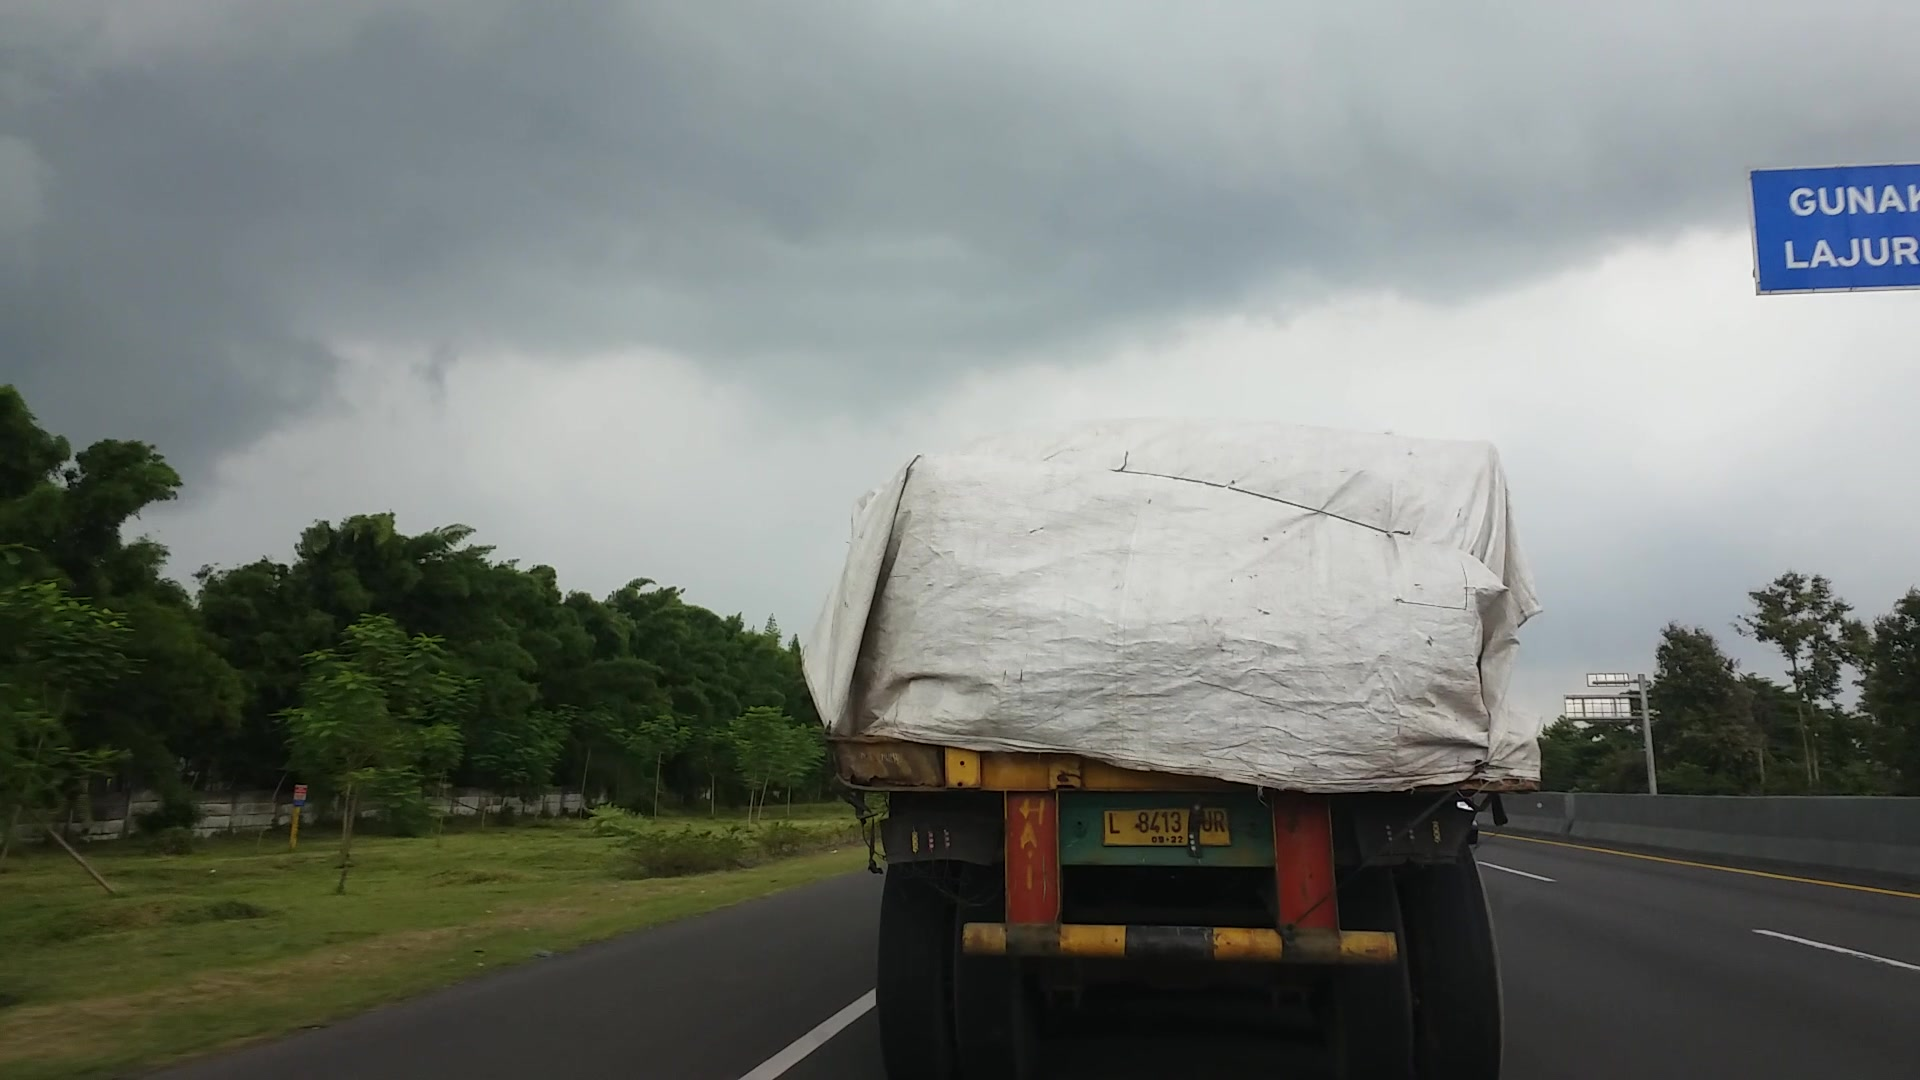plate_positive: (1102, 807, 1230, 847)
